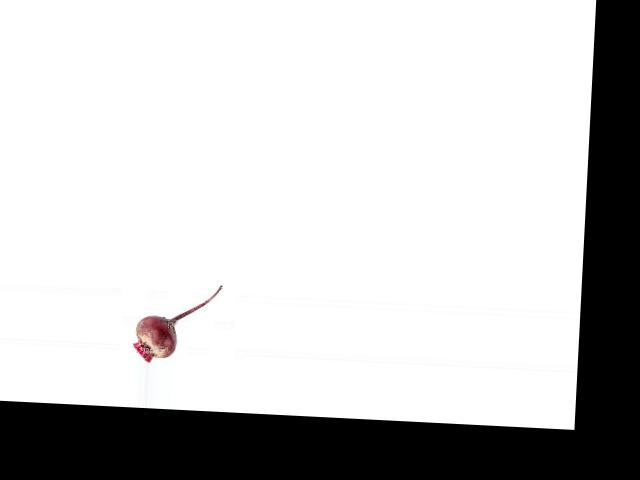beet: (133, 281, 222, 366)
